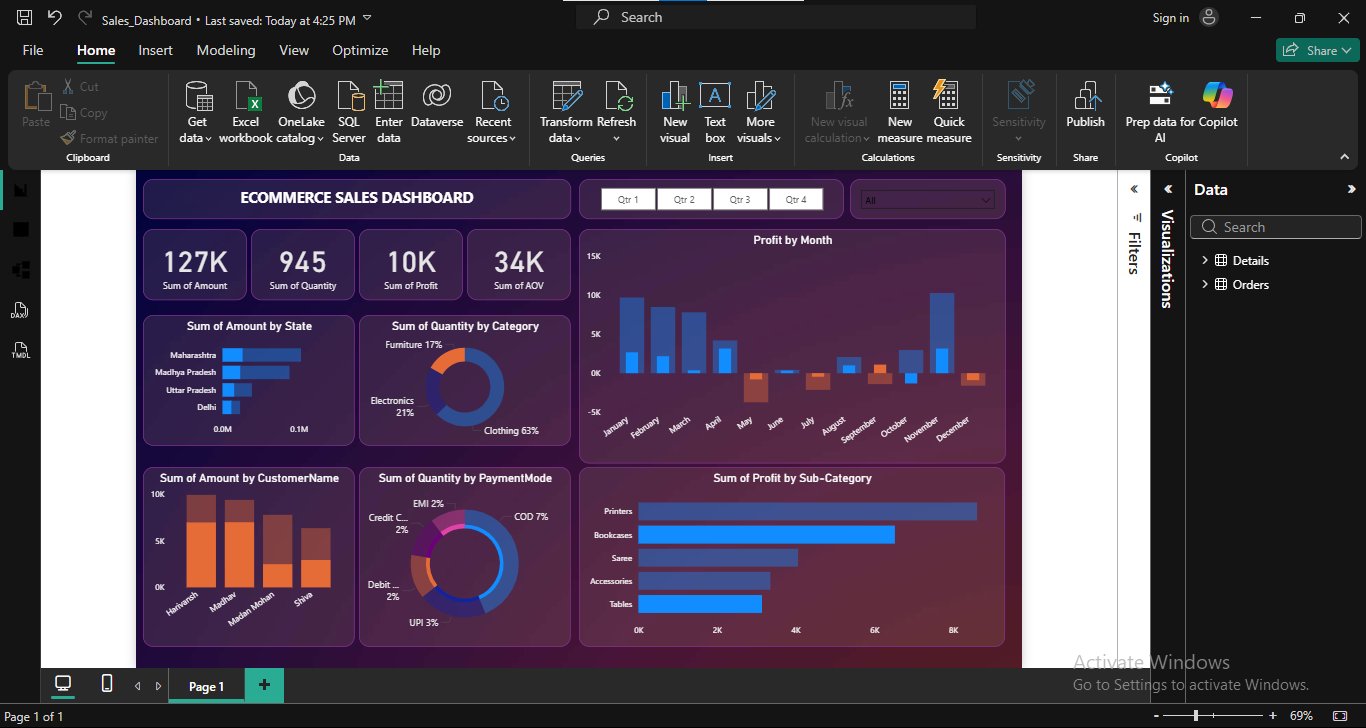

The page's visual inventory and layout, read from the dashboard file:
{"tool":"powerbi","page":{"name":"Page 1","canvas":[1280,720],"ordinal":0},"visuals":[{"type":"textbox","box":[9.9,13.2,618.6,57.6],"z":0},{"type":"columnChart","title":"Profit by Month","fields":{"Category":["Orders.Order Date.Variation.Date Hierarchy.Month"],"Y":["Sum(Details.Profit)"]},"box":[640,85.6,617,338.9],"z":1000},{"type":"barChart","fields":{"Category":["Details.Sub-Category"],"Y":["Sum(Details.Profit)"]},"box":[640.5,429.4,615.9,260.2],"z":2000},{"type":"donutChart","fields":{"Category":["Details.Category"],"Y":["Sum(Details.Quantity)"]},"box":[322.5,208.9,306,189.2],"z":3000},{"type":"donutChart","fields":{"Y":["Sum(Details.Quantity)"],"Category":["Details.PaymentMode"]},"box":[322.5,429.4,306,259.9],"z":4000},{"type":"card","fields":{"Values":["Sum(Details.Amount)"]},"box":[10.1,85.3,150.4,102.7],"z":5000},{"type":"card","fields":{"Values":["Sum(Details.Quantity)"]},"box":[166.3,85.3,150.4,102.7],"z":6000},{"type":"card","fields":{"Values":["Sum(Details.Profit)"]},"box":[322.4,85.3,150.4,102.7],"z":7000},{"type":"card","fields":{"Values":["Sum(Details.AOV)"]},"box":[478.6,85.3,150.4,102.7],"z":8000},{"type":"barChart","fields":{"Category":["Orders.State"],"Y":["Sum(Details.Amount)"]},"box":[9.9,208.9,306,189.2],"z":9000},{"type":"columnChart","fields":{"Category":["Orders.CustomerName"],"Y":["Sum(Details.Amount)"]},"box":[9.9,429.4,306,259.9],"z":10000},{"type":"slicer","fields":{"Values":["Orders.Order Date.Variation.Date Hierarchy.Quarter"]},"box":[640,13.2,383.3,57.6],"z":11000},{"type":"slicer","fields":{"Values":["Orders.State"]},"box":[1031.6,13.2,225.4,57.6],"z":12000}]}

Visuals, with their boxes on the page's 1280x720 design canvas (x1, y1, x2, y2). These are canvas units, not pixel positions in the 1366x728 screenshot, which may show the page scaled, cropped or inside an application window:
textbox: crop(10, 13, 628, 71)
"Profit by Month" columnChart: crop(640, 86, 1257, 424)
barChart - Details.Sub-Category x Sum(Details.Profit): crop(640, 429, 1256, 690)
donutChart - Details.Category x Sum(Details.Quantity): crop(322, 209, 628, 398)
donutChart - Sum(Details.Quantity) x Details.PaymentMode: crop(322, 429, 628, 689)
card - Sum(Details.Amount): crop(10, 85, 160, 188)
card - Sum(Details.Quantity): crop(166, 85, 317, 188)
card - Sum(Details.Profit): crop(322, 85, 473, 188)
card - Sum(Details.AOV): crop(479, 85, 629, 188)
barChart - Orders.State x Sum(Details.Amount): crop(10, 209, 316, 398)
columnChart - Orders.CustomerName x Sum(Details.Amount): crop(10, 429, 316, 689)
slicer - Orders.Order Date.Variation.Date Hierarchy.Quarter: crop(640, 13, 1023, 71)
slicer - Orders.State: crop(1032, 13, 1257, 71)
